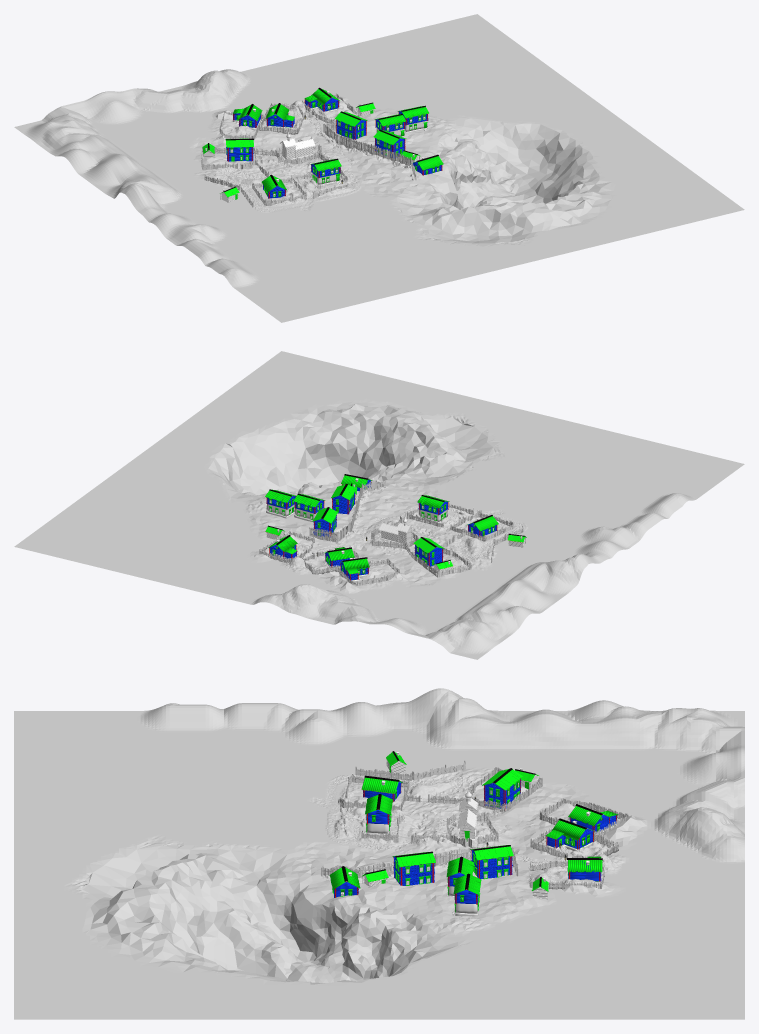
The model's file is 2-nd_ACT-TIF.fbx.
The picture shows the model from 3 angles, top to bottom: view 1: azimuth 30°, elevation 25°; view 2: azimuth 150°, elevation 25°; view 3: azimuth 270°, elevation 25°; orthographic projection. The views are drawn at different scales.
Visible parts, largest first — view 1: Plane, MedicHouse.001, house 7.002, Church, MedicHouse, MedicHouse.002, house 7.004, MainHouse.001, MainHouse, House, house 7.003; view 2: Plane, house 7.004, house 7.002, house 7.003, Church, MedicHouse, MedicHouse.002, MedicHouse.001, House, Zabor.003, MainHouse.001; view 3: Plane, Zabor.003, MedicHouse.002, MedicHouse.001, MainHouse, MedicHouse, house 7.004, house 7.002, House, Zabor.001, MainHouse.001, Zabor (+5 smaller).
Boxes of the visible parts, x1=… form: Plane: x1=14, y1=14, x2=744, y2=322; MedicHouse.001: x1=335, y1=111, x2=367, y2=139; house 7.002: x1=310, y1=158, x2=341, y2=185; Church: x1=280, y1=128, x2=315, y2=160; MedicHouse: x1=225, y1=138, x2=253, y2=161; MedicHouse.002: x1=373, y1=130, x2=406, y2=158; house 7.004: x1=397, y1=105, x2=428, y2=132; MainHouse.001: x1=304, y1=87, x2=339, y2=111; MainHouse: x1=265, y1=103, x2=294, y2=129; House: x1=232, y1=104, x2=262, y2=130; house 7.003: x1=374, y1=114, x2=406, y2=137; Plane: x1=14, y1=351, x2=744, y2=659; house 7.004: x1=265, y1=489, x2=296, y2=518; house 7.002: x1=417, y1=495, x2=449, y2=522; house 7.003: x1=293, y1=493, x2=325, y2=522; Church: x1=378, y1=512, x2=414, y2=544; MedicHouse: x1=413, y1=537, x2=444, y2=567; MedicHouse.002: x1=331, y1=484, x2=356, y2=514; MedicHouse.001: x1=312, y1=507, x2=337, y2=537; House: x1=340, y1=557, x2=369, y2=581; Zabor.003: x1=371, y1=516, x2=437, y2=577; MainHouse.001: x1=268, y1=535, x2=297, y2=561; Plane: x1=14, y1=688, x2=744, y2=1019; Zabor.003: x1=411, y1=778, x2=542, y2=847; MedicHouse.002: x1=392, y1=851, x2=435, y2=886; MedicHouse.001: x1=470, y1=845, x2=513, y2=879; MainHouse: x1=545, y1=818, x2=594, y2=851; MedicHouse: x1=482, y1=768, x2=522, y2=809; house 7.004: x1=452, y1=873, x2=481, y2=916; house 7.002: x1=363, y1=794, x2=392, y2=835; House: x1=568, y1=804, x2=617, y2=835; Zabor.001: x1=539, y1=798, x2=628, y2=839; MainHouse.001: x1=567, y1=856, x2=602, y2=882; Zabor: x1=530, y1=828, x2=618, y2=859.
Size of the model in its own units: 14628 by 2374 by 14628.
